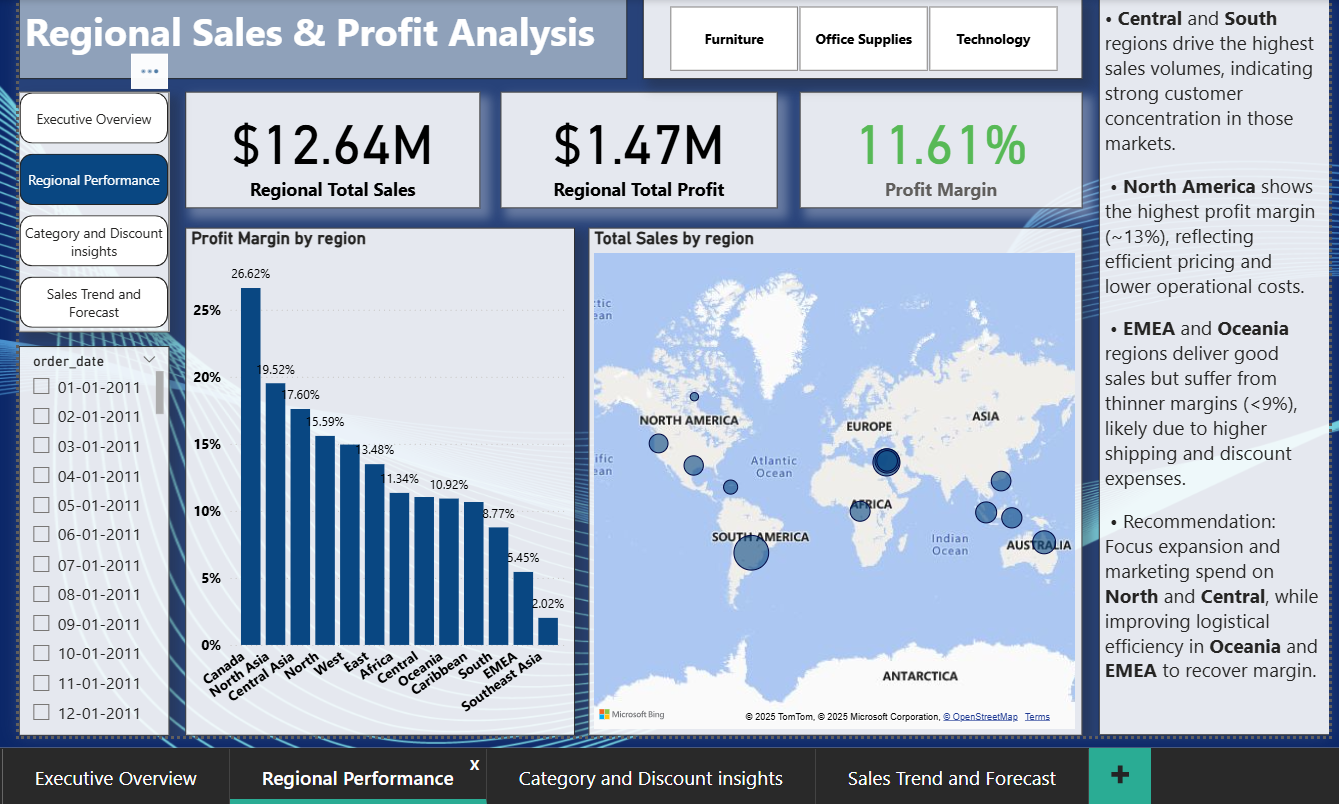

Layout of this report page (visuals, bound fields, positions):
{"tool":"powerbi","page":{"name":"Regional Performance","canvas":[1280,720],"ordinal":1},"visuals":[{"type":"textbox","box":[0,0,594.1,78.4],"z":0},{"type":"card","fields":{"Values":["region_summary.RG_TotalSales"]},"box":[162.7,90.2,288.2,113.7],"z":1000},{"type":"card","fields":{"Values":["region_summary.RG_TotalProfit"]},"box":[470.6,90.2,270.6,113.7],"z":2000},{"type":"card","fields":{"Values":["region_summary.RG_ProfitMargin"]},"box":[762.7,90.2,276.5,113.7],"z":3000},{"type":"slicer","fields":{"Values":["daily_kpi.order_date"]},"box":[0,339.2,147.1,380.4],"z":4000},{"type":"columnChart","title":"Profit Margin by region","fields":{"Category":["region_summary.region"],"Y":["region_summary.RG_ProfitMargin"]},"box":[162.7,223.5,380.4,496.1],"z":5000},{"type":"slicer","fields":{"Values":["category_region_summary.category"]},"box":[609.8,0,429.4,78.4],"z":6000},{"type":"map","title":"Total Sales by region","fields":{"Category":["region_summary.region"],"Size":["region_summary.RG_TotalSales"]},"box":[556.9,223.5,482.4,496.1],"z":7000},{"type":"textbox","box":[1054.9,0,225.5,719.6],"z":8000},{"type":"pageNavigator","box":[0,90.2,147.1,235.3],"z":9000}]}

Visuals, with their boxes in screenshot pixels (x1, y1, x2, y2):
textbox: <region>10, 0, 623, 74</region>
card - region_summary.RG_TotalSales: <region>178, 86, 476, 203</region>
card - region_summary.RG_TotalProfit: <region>496, 86, 775, 203</region>
card - region_summary.RG_ProfitMargin: <region>797, 86, 1083, 203</region>
slicer - daily_kpi.order_date: <region>10, 343, 162, 735</region>
"Profit Margin by region" columnChart: <region>178, 224, 571, 735</region>
slicer - category_region_summary.category: <region>640, 0, 1083, 74</region>
"Total Sales by region" map: <region>585, 224, 1083, 735</region>
textbox: <region>1099, 0, 1331, 735</region>
pageNavigator: <region>10, 86, 162, 329</region>
